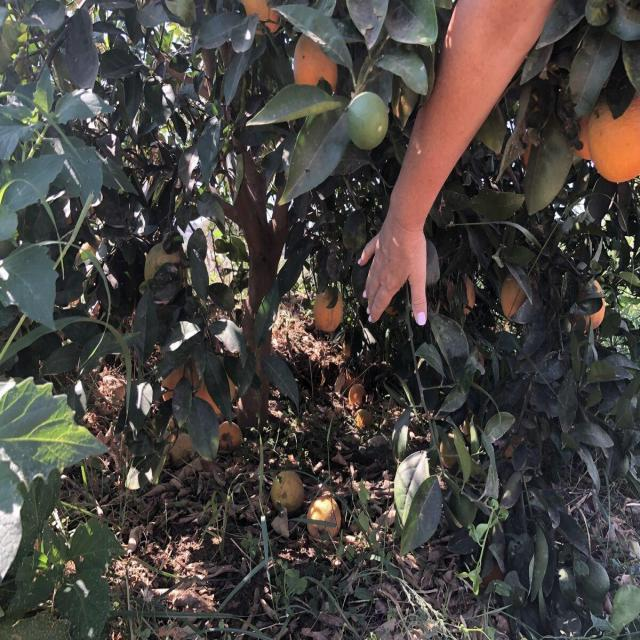Jeruk Sudah Matang: (292, 28, 342, 105), (346, 90, 389, 150), (191, 360, 236, 412), (499, 272, 541, 325), (567, 278, 605, 333), (306, 495, 342, 545), (241, 0, 287, 36), (313, 286, 345, 335), (270, 470, 306, 512), (444, 276, 476, 315), (216, 418, 245, 455), (439, 435, 468, 469), (347, 382, 368, 410), (355, 407, 375, 433)
